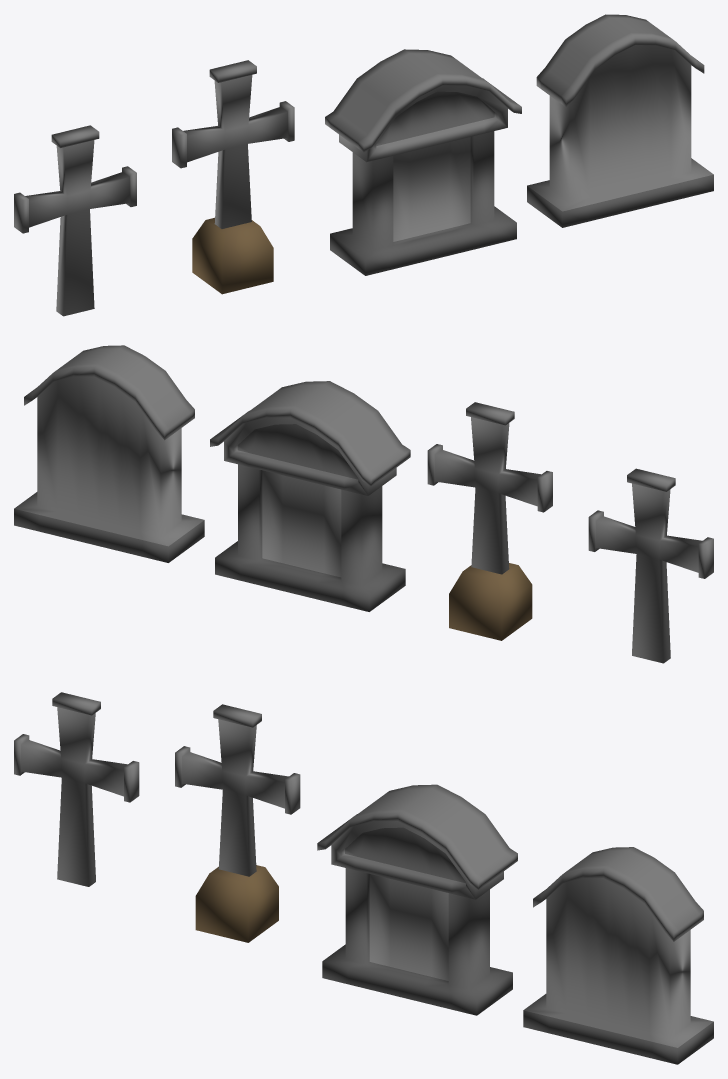
The model's file is Grafstenen.fbx.
3 views of the same model, one above another, from view 1: azimuth 30°, elevation 25°; view 2: azimuth 150°, elevation 25°; view 3: azimuth 330°, elevation 25° (orthographic).
Visible parts, largest first — view 1: Cube_001, Cube, Cube_002, Cube_003; view 2: Cube_001, Cube, Cube_002, Cube_003; view 3: Cube_001, Cube, Cube_002, Cube_003.
Part boxes in pixels (box(x1,y1,x2,y2)): Cube_001: box(325, 49, 521, 275); Cube: box(527, 14, 713, 227); Cube_002: box(172, 60, 294, 294); Cube_003: box(14, 125, 136, 316); Cube_001: box(210, 381, 410, 611); Cube: box(14, 345, 204, 562); Cube_002: box(427, 402, 552, 640); Cube_003: box(588, 468, 713, 663); Cube_001: box(317, 784, 517, 1015); Cube: box(523, 847, 713, 1064); Cube_002: box(175, 704, 300, 942); Cube_003: box(14, 692, 139, 886).
Size of the model in its own units: 11.07 by 3.41 by 1.17.
